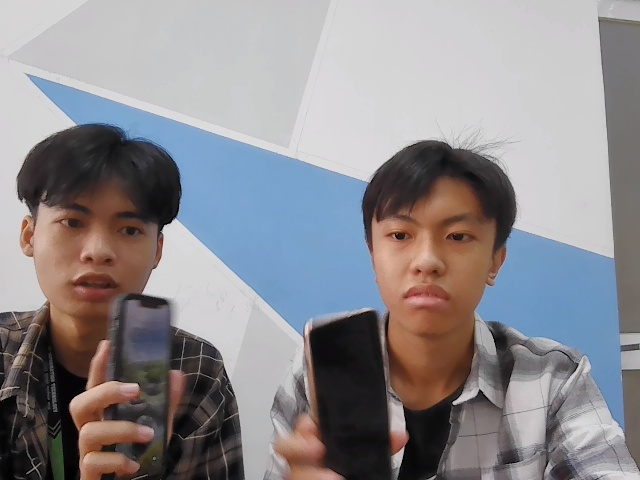human: (13, 120, 179, 317), (363, 142, 512, 331)
phone: (303, 310, 397, 478), (113, 296, 171, 480)
